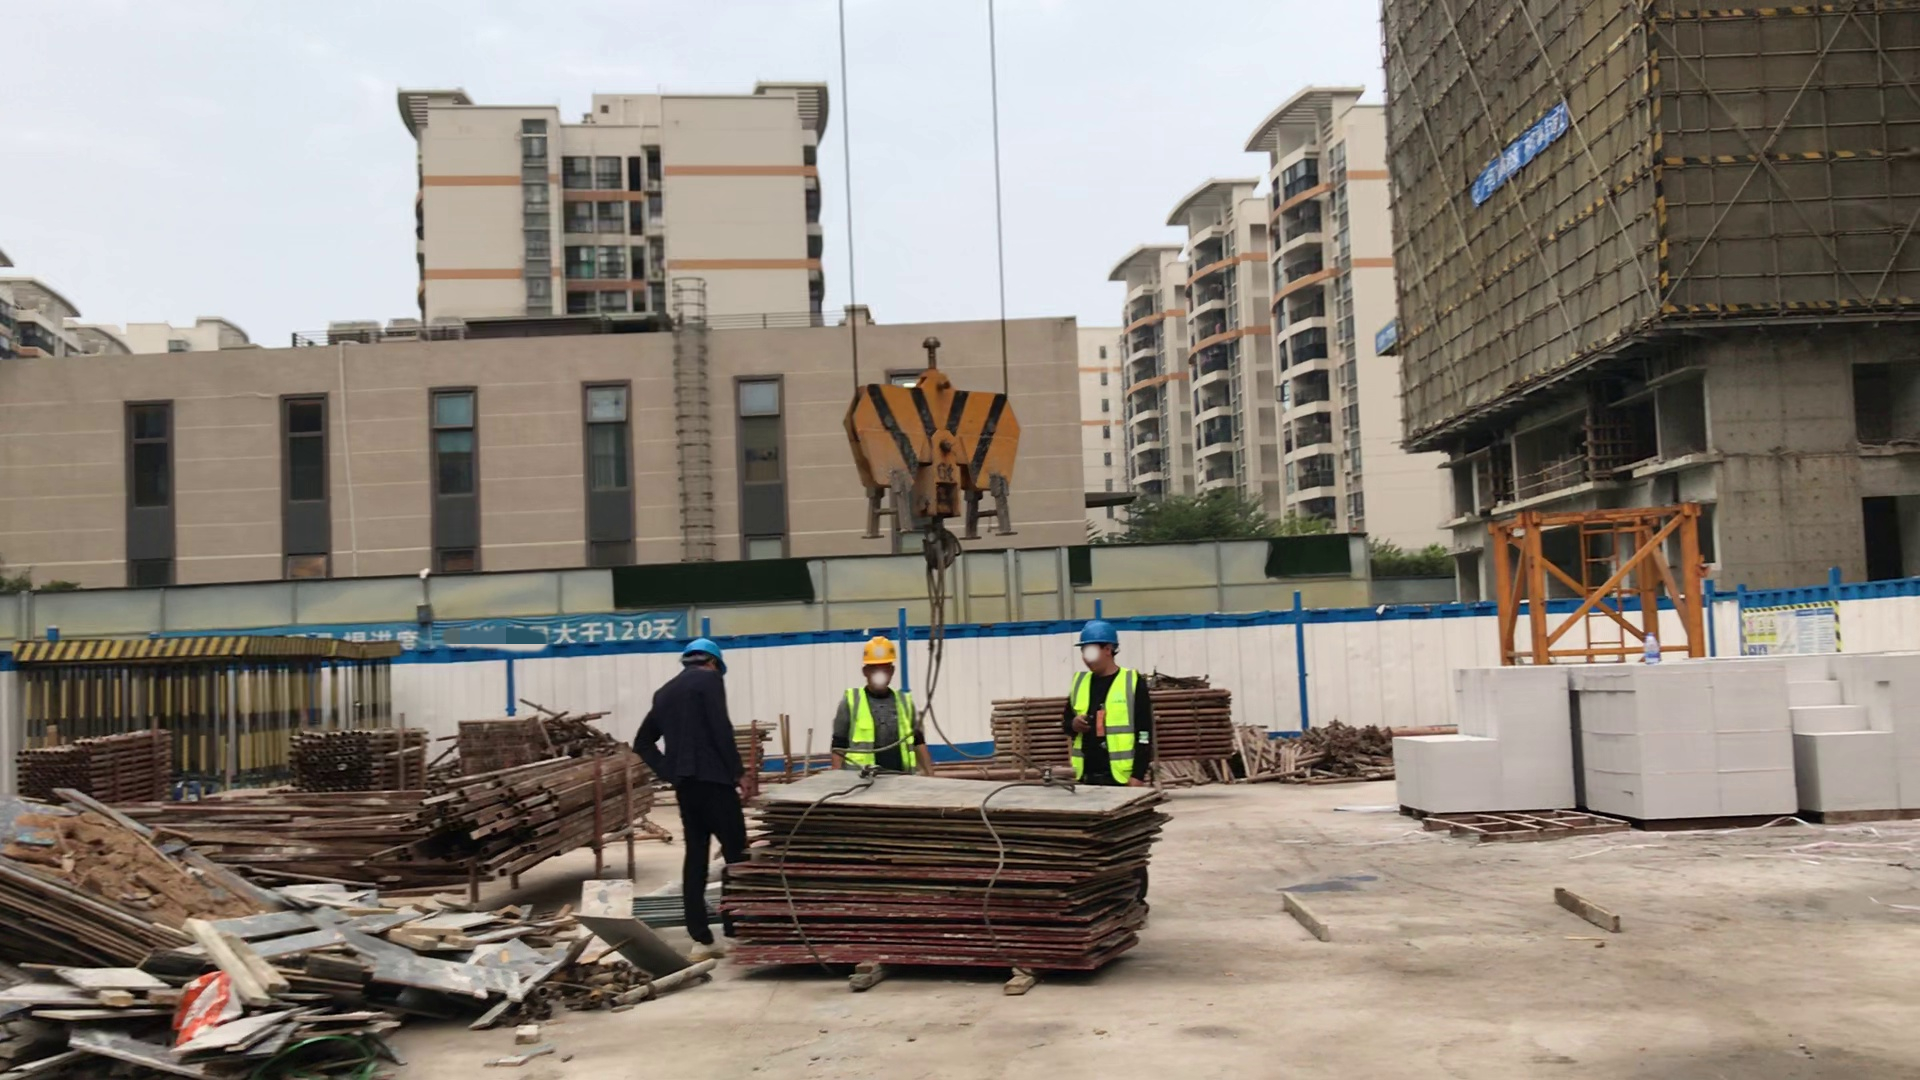board: (721, 768, 1172, 977)
helmet: (679, 637, 726, 667), (1075, 621, 1117, 649), (861, 637, 896, 667)
hook: (832, 361, 1024, 568)
person: (632, 634, 748, 967), (1055, 619, 1151, 783), (829, 630, 938, 776)
scaffold: (25, 729, 169, 807), (296, 723, 431, 793), (1155, 690, 1239, 757), (996, 696, 1069, 768), (461, 715, 539, 768)
slogan: (292, 623, 691, 647), (1477, 105, 1567, 202)
vest: (1071, 669, 1135, 781), (845, 685, 919, 767)
wood: (1394, 653, 1920, 821)
